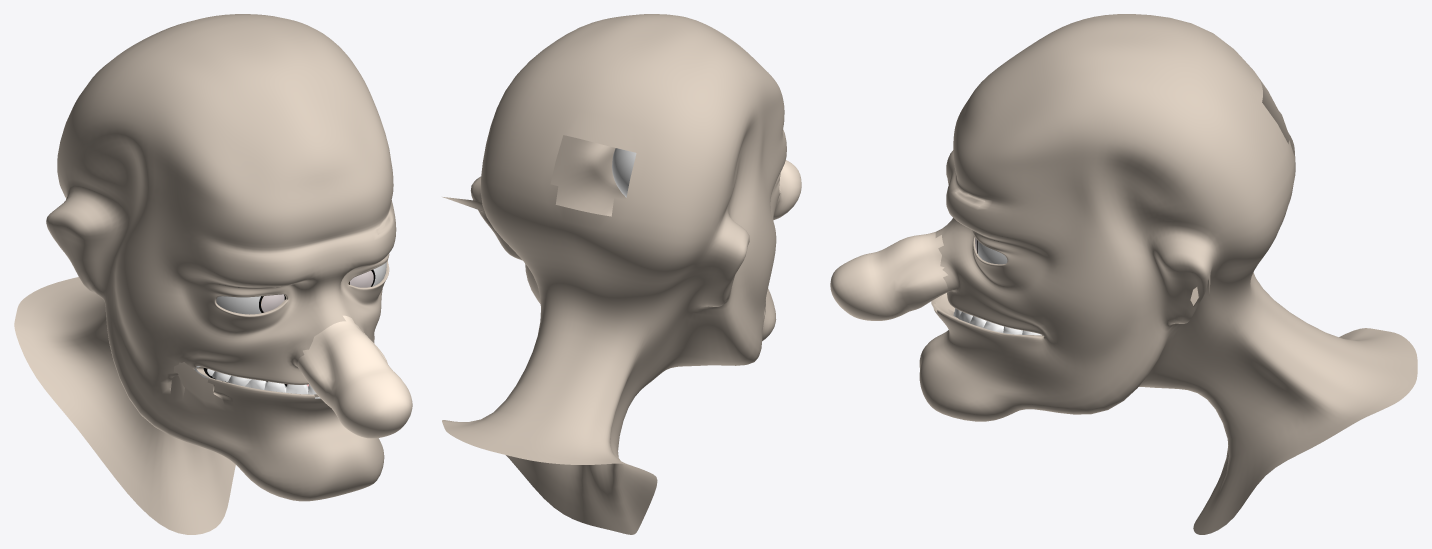
3 renders of one model, left to right at view 1: azimuth 30°, elevation 25°; view 2: azimuth 150°, elevation 25°; view 3: azimuth 270°, elevation 25°, orthographic. The views are drawn at different scales.
Visible parts, largest first — view 1: Head.001, nose.003, eye izq, simpleteeth.001, eye der; view 2: Head.001, nose.003, eye der; view 3: Head.001, nose.003.
Part boxes in pixels (left/top/right/bottom): Head.001: left=14, top=14, right=396, bottom=534; nose.003: left=297, top=315, right=412, bottom=438; eye izq: left=216, top=294, right=285, bottom=314; simpleteeth.001: left=194, top=366, right=320, bottom=398; eye der: left=348, top=262, right=386, bottom=287; Head.001: left=442, top=14, right=786, bottom=534; nose.003: left=773, top=160, right=801, bottom=220; eye der: left=612, top=148, right=636, bottom=197; Head.001: left=919, top=14, right=1417, bottom=534; nose.003: left=830, top=232, right=952, bottom=320.
Bounding box in the file's own units: 59.88 × 90.14 × 97.2.
